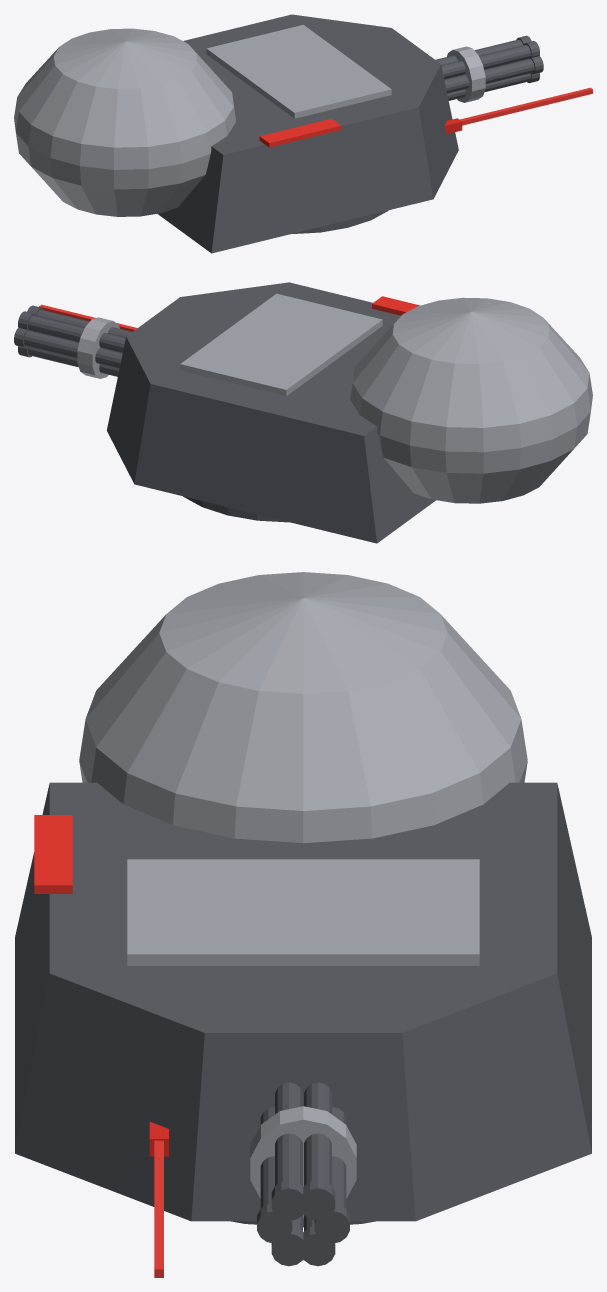
File: vge_egun_point_defense.obj
3 views of the same model, one above another, from view 1: azimuth 30°, elevation 25°; view 2: azimuth 150°, elevation 25°; view 3: azimuth 270°, elevation 25° (orthographic). The views are drawn at different scales.
Parts seen in each view (by area): view 1: vge_egun_point_defense_1, vge_egun_point_defense_3, vge_egun_point_defense_2, vge_egun_point_defense_22, vge_egun_point_defense_13, vge_egun_point_defense_10, vge_egun_point_defense_25, vge_egun_point_defense_24, vge_egun_point_defense_16, vge_egun_point_defense_0, vge_egun_point_defense_7; view 2: vge_egun_point_defense_1, vge_egun_point_defense_3, vge_egun_point_defense_2, vge_egun_point_defense_22, vge_egun_point_defense_4, vge_egun_point_defense_7, vge_egun_point_defense_19, vge_egun_point_defense_0, vge_egun_point_defense_10, vge_egun_point_defense_25, vge_egun_point_defense_24; view 3: vge_egun_point_defense_1, vge_egun_point_defense_3, vge_egun_point_defense_2, vge_egun_point_defense_22, vge_egun_point_defense_25, vge_egun_point_defense_7, vge_egun_point_defense_10, vge_egun_point_defense_4, vge_egun_point_defense_13, vge_egun_point_defense_24, vge_egun_point_defense_8, vge_egun_point_defense_11.
Boxes of the visible parts, bbox=[...] form: vge_egun_point_defense_1: bbox=[157, 14, 458, 253]; vge_egun_point_defense_3: bbox=[14, 28, 235, 216]; vge_egun_point_defense_2: bbox=[206, 25, 391, 118]; vge_egun_point_defense_22: bbox=[447, 46, 485, 102]; vge_egun_point_defense_13: bbox=[444, 58, 534, 93]; vge_egun_point_defense_10: bbox=[441, 45, 530, 79]; vge_egun_point_defense_25: bbox=[259, 118, 341, 147]; vge_egun_point_defense_24: bbox=[460, 87, 592, 125]; vge_egun_point_defense_16: bbox=[447, 73, 530, 100]; vge_egun_point_defense_0: bbox=[292, 210, 388, 233]; vge_egun_point_defense_7: bbox=[435, 39, 522, 65]; vge_egun_point_defense_1: bbox=[107, 282, 435, 543]; vge_egun_point_defense_3: bbox=[350, 297, 592, 503]; vge_egun_point_defense_2: bbox=[180, 293, 382, 396]; vge_egun_point_defense_22: bbox=[77, 317, 119, 378]; vge_egun_point_defense_4: bbox=[24, 330, 122, 368]; vge_egun_point_defense_7: bbox=[28, 315, 125, 353]; vge_egun_point_defense_19: bbox=[28, 347, 119, 376]; vge_egun_point_defense_0: bbox=[183, 496, 288, 522]; vge_egun_point_defense_10: bbox=[36, 309, 131, 337]; vge_egun_point_defense_25: bbox=[372, 296, 419, 315]; vge_egun_point_defense_24: bbox=[39, 304, 137, 331]; vge_egun_point_defense_1: bbox=[15, 782, 591, 1221]; vge_egun_point_defense_3: bbox=[79, 572, 527, 843]; vge_egun_point_defense_2: bbox=[127, 859, 479, 965]; vge_egun_point_defense_22: bbox=[250, 1106, 356, 1218]; vge_egun_point_defense_25: bbox=[34, 815, 72, 893]; vge_egun_point_defense_7: bbox=[304, 1082, 331, 1217]; vge_egun_point_defense_10: bbox=[275, 1082, 302, 1217]; vge_egun_point_defense_4: bbox=[318, 1107, 346, 1240]; vge_egun_point_defense_13: bbox=[260, 1107, 288, 1240]; vge_egun_point_defense_24: bbox=[154, 1140, 163, 1277]; vge_egun_point_defense_8: bbox=[300, 1180, 335, 1220]; vge_egun_point_defense_11: bbox=[271, 1180, 305, 1220].
Size of the model in its own units: 3.8 by 1.28 by 1.8.
